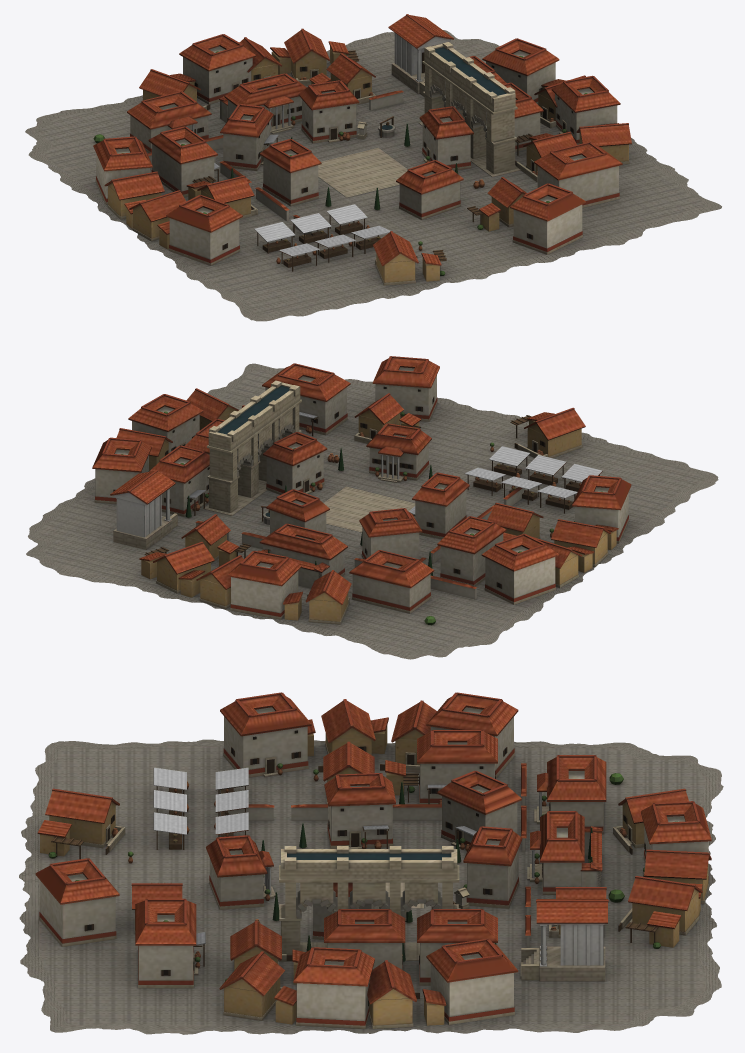
File: classical-town-big-b-europe.glb
The picture shows the model from 3 angles, top to bottom: view 1: azimuth 30°, elevation 25°; view 2: azimuth 150°, elevation 25°; view 3: azimuth 270°, elevation 25°; orthographic projection. The views are drawn at different scales.
Visible parts, largest first — view 1: LOD0; view 2: LOD0; view 3: LOD0.
Boxes of the visible parts, box(x1,y1,x2,y2) form: LOD0: box(25, 14, 721, 321); LOD0: box(26, 356, 718, 659); LOD0: box(19, 692, 723, 1034).
Size of what is drawn, in the model's own units: 8.04 by 1.26 by 8.12.
3 materials, 3 textured.
